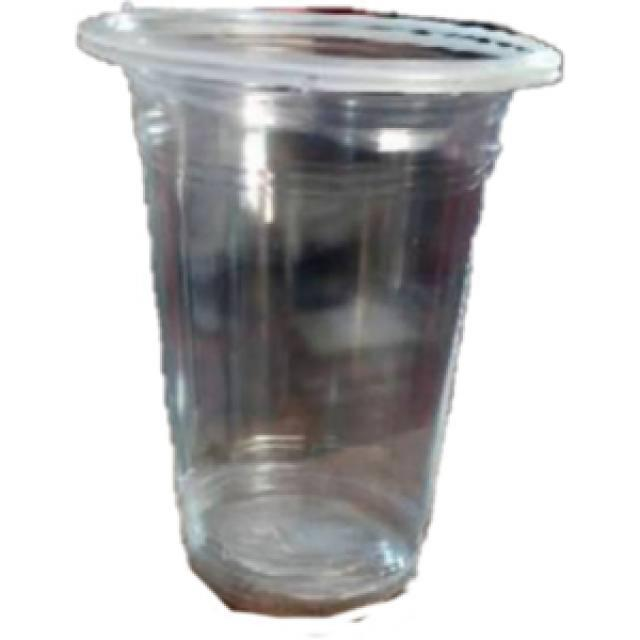plastic cup: (68, 2, 576, 632)
